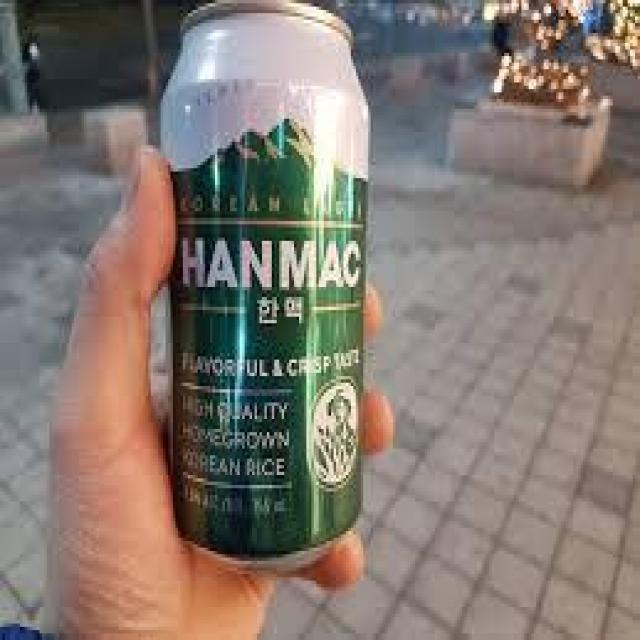beer-can: (158, 0, 381, 581)
